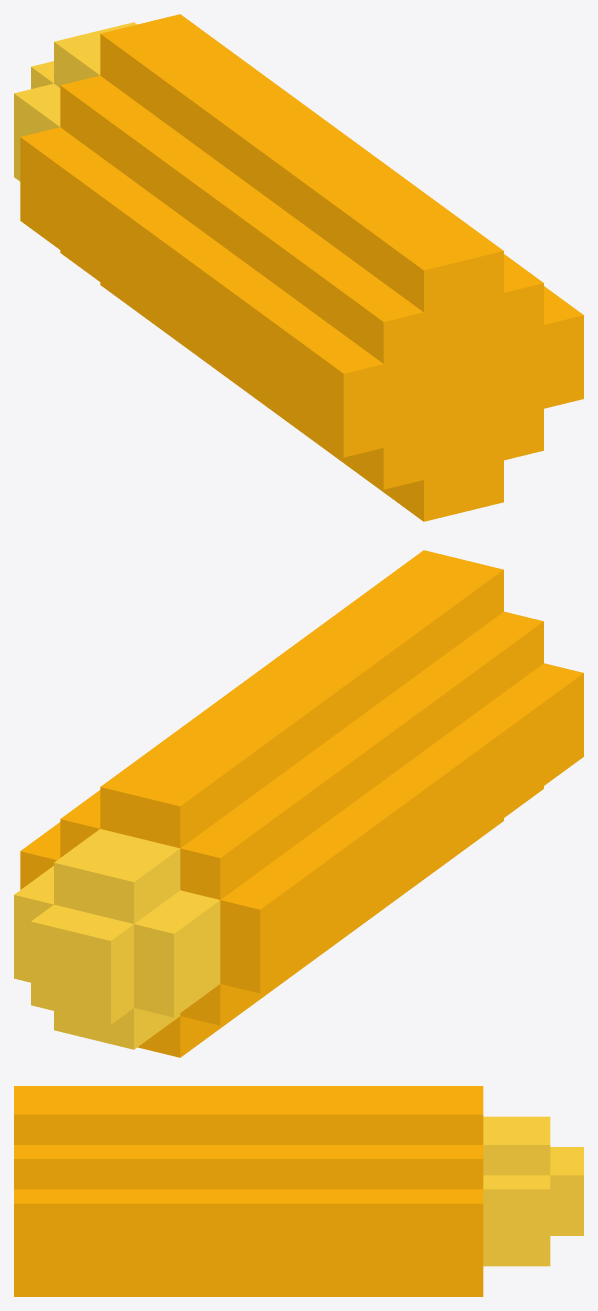
3 renders of one model, top to bottom at view 1: azimuth 30°, elevation 25°; view 2: azimuth 150°, elevation 25°; view 3: azimuth 270°, elevation 25°, orthographic. The views are drawn at different scales.
Visible parts, largest first — view 1: Object; view 2: Object; view 3: Object.
Boxes of the visible parts, left/top/right/bottom form: Object: left=14, top=14, right=583, bottom=521; Object: left=14, top=550, right=583, bottom=1057; Object: left=14, top=1086, right=583, bottom=1296.
Bounding box in the file's own units: 6 × 6 × 17.
Materials: 1 (1 with a texture image).
